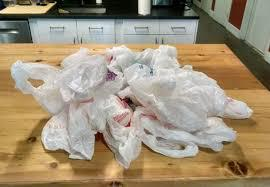Plastic: (106, 41, 247, 174), (21, 44, 110, 122), (46, 100, 108, 164)
